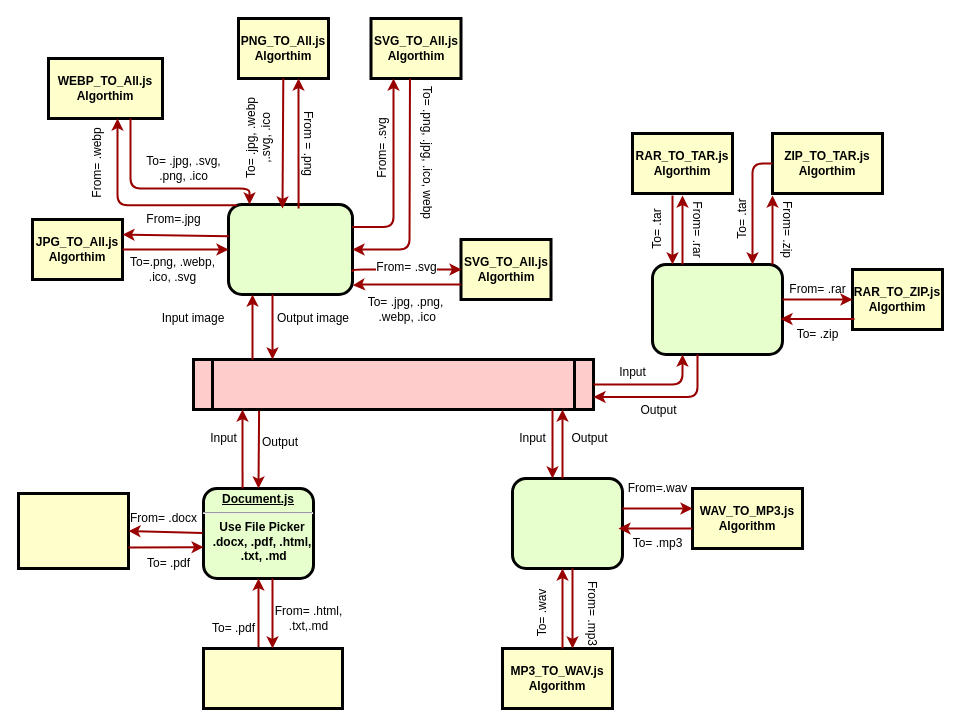
This 961x727 diagram has some shape labels left out. The shapes that lost their labels are listed below. From the top down, each one's box as (x1, y1, x2, y2) in pixels, then its label:
(226, 202, 354, 296): Image.js Use File Picker, .png , .jpg , .webp .svg , .gif
(650, 262, 784, 356): CompressedFile.js Use File Picker .zip, .tar.gz, .rar
(192, 358, 594, 410): Homepage
(16, 492, 130, 570): DOCX_TO_PDF.js Algorthim
(510, 476, 624, 570): Music.js Use File Picker .mp3, .wav
(202, 646, 344, 710): TXT/MD HTML_TO_PDF.js Algorthim
